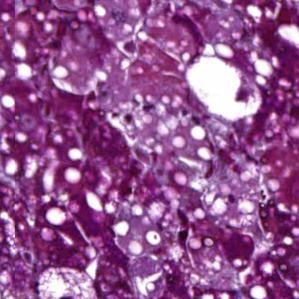ballooning: (184, 53, 264, 124), (35, 263, 99, 298)
